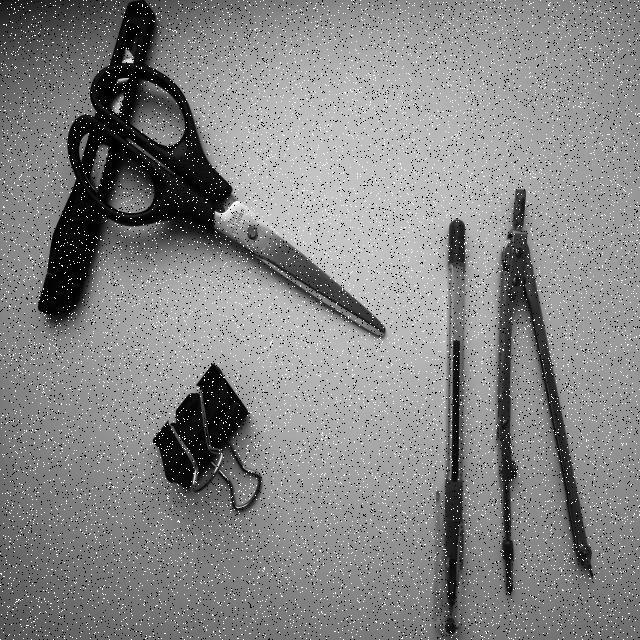scissors: (57, 44, 407, 361)
